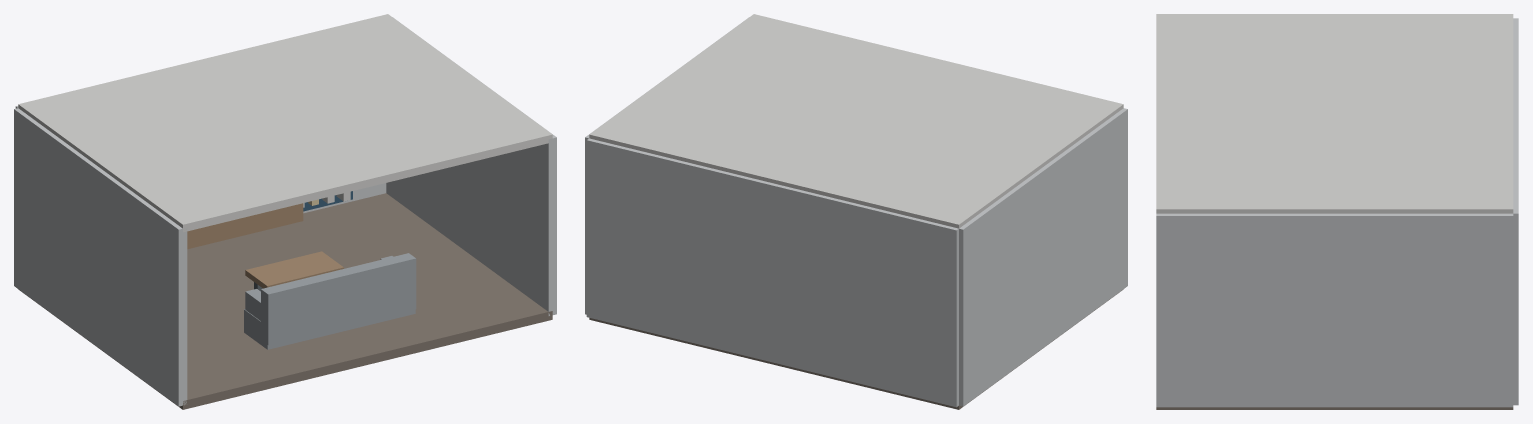
The model's file is painel-3d.glb.
3 views of the same model, side by side, from view 1: azimuth 30°, elevation 25°; view 2: azimuth 150°, elevation 25°; view 3: azimuth 270°, elevation 25° (orthographic). The views are drawn at different scales.
Parts seen in each view (by area): view 1: painel-3d_001, painel-3d_000, painel-3d_003, painel-3d_004, painel-3d_006, painel-3d_015, painel-3d_009, painel-3d_005, painel-3d_002; view 2: painel-3d_002, painel-3d_001, painel-3d_003, painel-3d_000, painel-3d_004; view 3: painel-3d_001, painel-3d_004, painel-3d_002, painel-3d_000.
Part boxes in pixels (<box>): painel-3d_001: <box>18,14,552,232</box>; painel-3d_000: <box>18,193,552,409</box>; painel-3d_003: <box>14,108,187,406</box>; painel-3d_004: <box>386,17,556,315</box>; painel-3d_006: <box>261,253,416,345</box>; painel-3d_015: <box>187,203,303,249</box>; painel-3d_009: <box>245,251,343,288</box>; painel-3d_005: <box>244,309,415,349</box>; painel-3d_002: <box>15,106,386,213</box>; painel-3d_002: <box>586,138,958,407</box>; painel-3d_001: <box>589,14,1123,228</box>; painel-3d_003: <box>959,108,1127,406</box>; painel-3d_000: <box>589,289,1123,409</box>; painel-3d_004: <box>585,17,749,314</box>; painel-3d_001: <box>1156,14,1513,213</box>; painel-3d_004: <box>1156,213,1513,407</box>; painel-3d_002: <box>1513,18,1518,405</box>; painel-3d_000: <box>1156,407,1513,409</box>.
Size of the model in its own units: 7.16 by 3.35 by 5.48.
